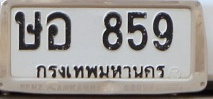txt34: (13, 10, 44, 51)
txt38: (45, 10, 72, 52)
